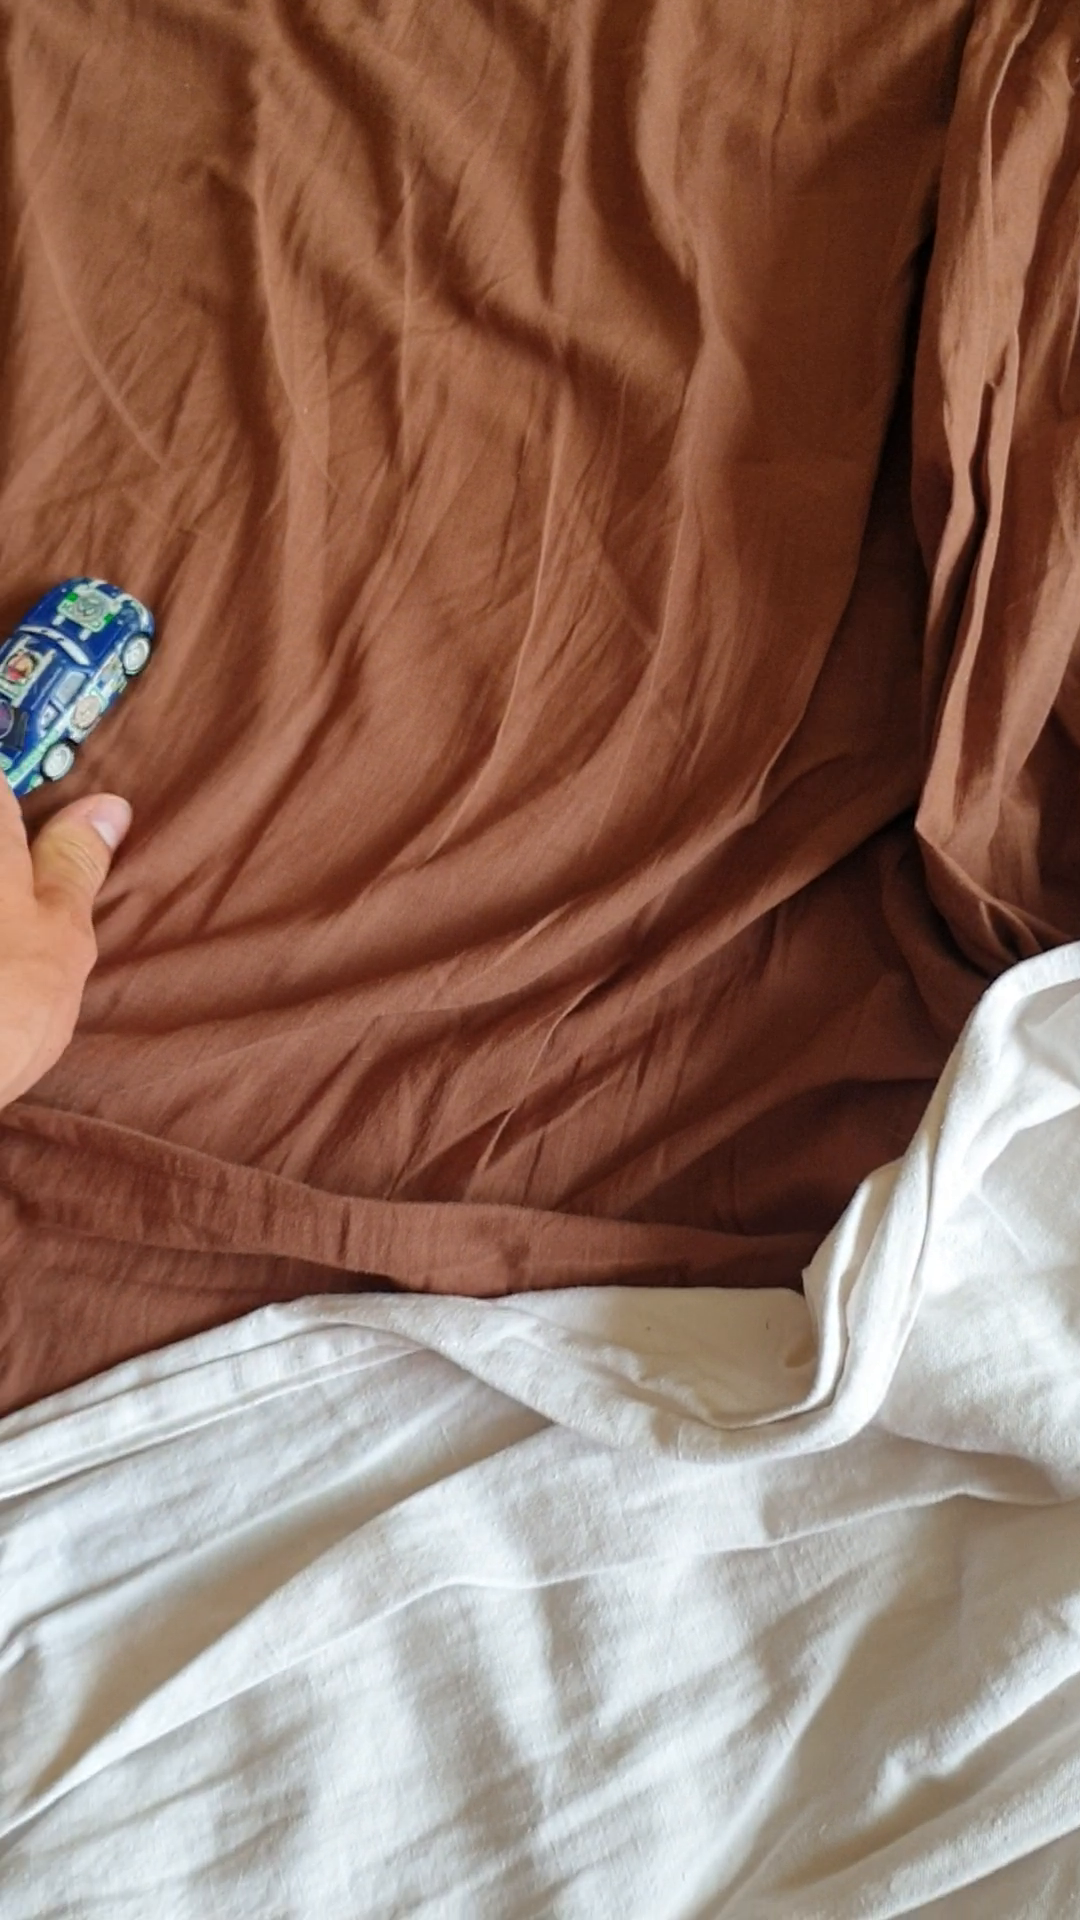cars: (1, 574, 156, 793)
